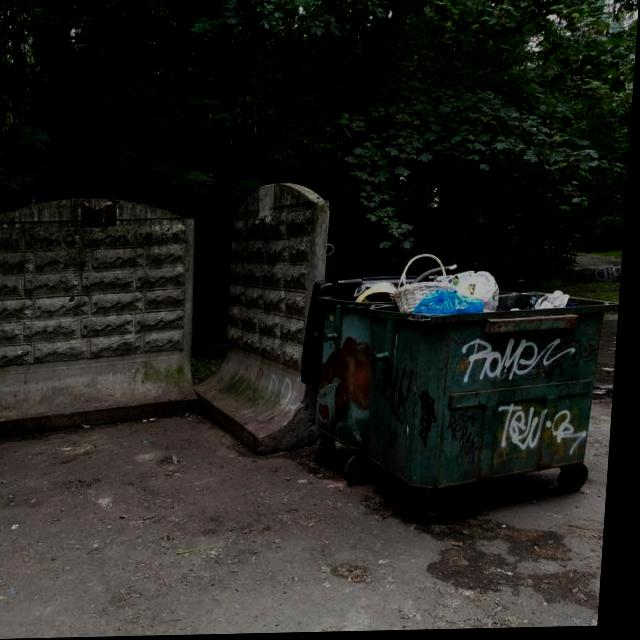Trash_Can_Full: (366, 270, 611, 493)
